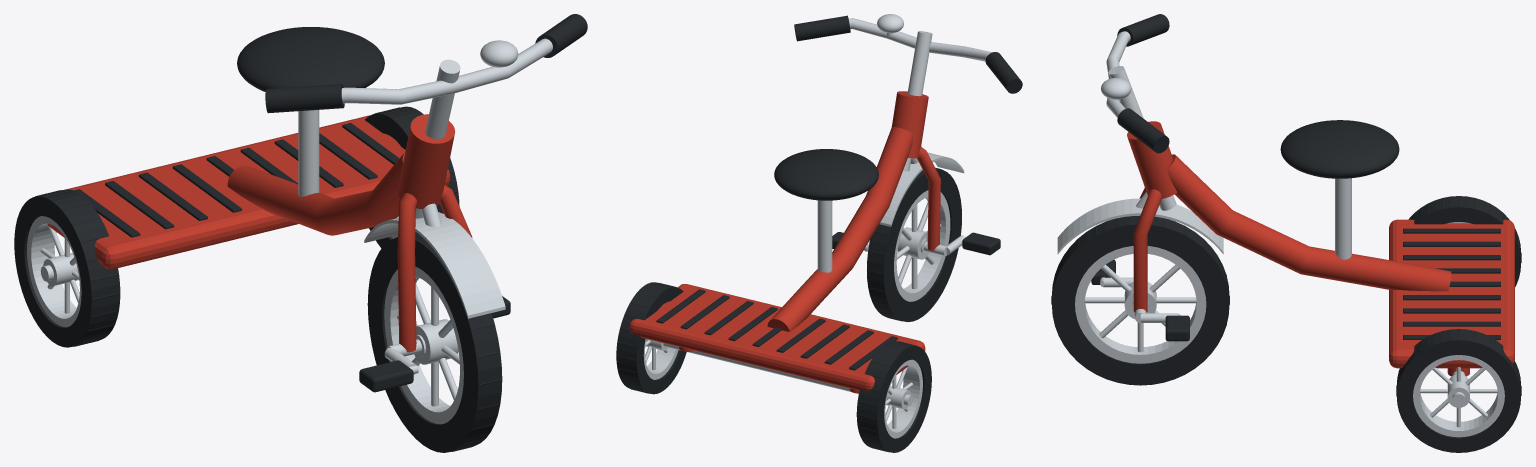
Rendered from A-NEW-20261026-PEDAL-TRICYCLE-001_LOD0_R1.glb.
The picture shows the model from 3 angles, left to right: view 1: azimuth 30°, elevation 25°; view 2: azimuth 150°, elevation 25°; view 3: azimuth 270°, elevation 25°; orthographic projection. The views are drawn at different scales.
Visible parts, largest first — view 1: rear grooved standing platform, front tire, rear -1 tire, rounded saddle, curved main frame, curved front mudguard, steering head, curved handlebar, front rim, front fork -1, rear -1 rim, ribbed hand grip -1 (+15 smaller); view 2: rear grooved standing platform, curved main frame, front tire, rounded saddle, rear -1 tire, rear 1 tire, front rim, steering head, curved handlebar, rear -1 rim, front fork -1, curved front mudguard (+9 smaller); view 3: front tire, rear grooved standing platform, curved main frame, rear 1 tire, rounded saddle, front rim, curved front mudguard, rear -1 tire, rear 1 rim, front fork 1, steering head, saddle seatpost (+14 smaller).
Boxes of the visible parts, box(x1,y1,x2,y2) form: rear grooved standing platform: box(48, 115, 450, 269); front tire: box(367, 232, 502, 452); rear -1 tire: box(14, 189, 120, 347); rounded saddle: box(237, 27, 384, 91); curved main frame: box(227, 152, 405, 235); curved front mudguard: box(364, 212, 505, 318); steering head: box(397, 114, 455, 208); curved handlebar: box(341, 38, 552, 104); front rim: box(384, 266, 463, 424); front fork -1: box(397, 193, 416, 352); rear -1 rim: box(27, 216, 81, 327); ribbed hand grip -1: box(265, 84, 344, 113); rear grooved standing platform: box(629, 284, 925, 390); curved main frame: box(767, 127, 913, 331); front tire: box(867, 168, 961, 321); rounded saddle: box(774, 149, 878, 200); rear -1 tire: box(856, 341, 931, 452); rear 1 tire: box(616, 282, 686, 394); front rim: box(894, 190, 950, 301); steering head: box(891, 91, 928, 158); curved handlebar: box(848, 18, 992, 61); rear -1 rim: box(884, 359, 922, 438); front fork -1: box(917, 147, 940, 250); curved front mudguard: box(879, 152, 964, 226); front tire: box(1052, 216, 1229, 385); rear grooved standing platform: box(1389, 219, 1514, 368); curved main frame: box(1167, 154, 1451, 291); rear 1 tire: box(1396, 329, 1520, 452); rounded saddle: box(1280, 120, 1399, 178); front rim: box(1075, 246, 1206, 363); curved front mudguard: box(1057, 198, 1223, 254); rear -1 tire: box(1408, 196, 1520, 286); rear 1 rim: box(1413, 355, 1504, 437); front fork 1: box(1133, 189, 1161, 312); steering head: box(1127, 121, 1177, 198); saddle seatpost: box(1335, 178, 1351, 259).
Size of the model in its own units: 0.51 by 0.5053 by 0.6719.
